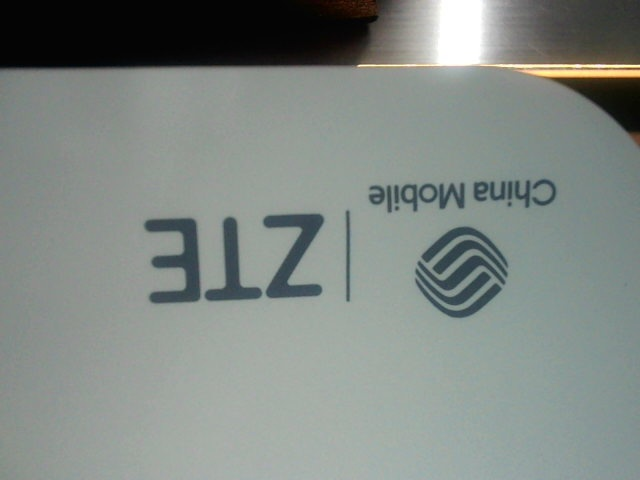AL_ZTEChinaMobile: (137, 164, 581, 326)
